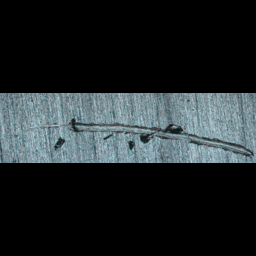d: (6, 116, 254, 159)
